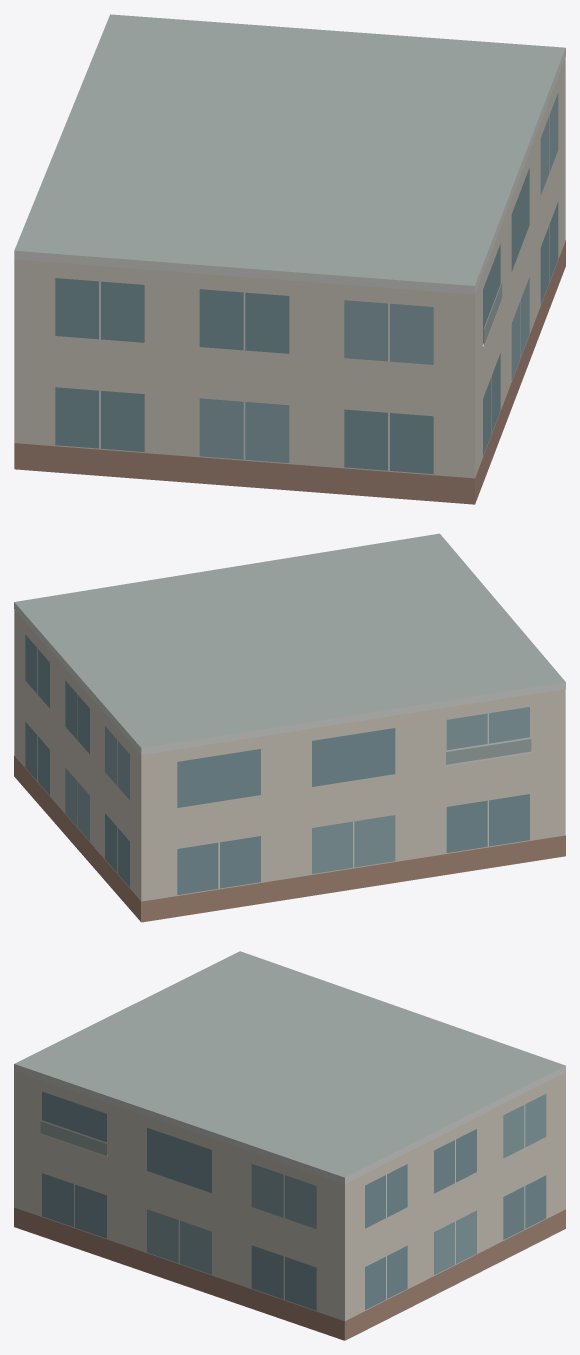
File: survey-upis-32888160.glb
3 renders of one model, top to bottom at view 1: azimuth 30°, elevation 25°; view 2: azimuth 150°, elevation 25°; view 3: azimuth 270°, elevation 25°, orthographic. The views are drawn at different scales.
Parts seen in each view (by area): view 1: survey-upis-32888160.tmp; view 2: survey-upis-32888160.tmp; view 3: survey-upis-32888160.tmp.
Boxes of the visible parts, x1,y1,x2,y2 form: survey-upis-32888160.tmp: (14, 14, 565, 504); survey-upis-32888160.tmp: (14, 533, 565, 922); survey-upis-32888160.tmp: (14, 951, 565, 1340).
Size of the model in its own units: 18.17 by 6.1 by 18.7.
